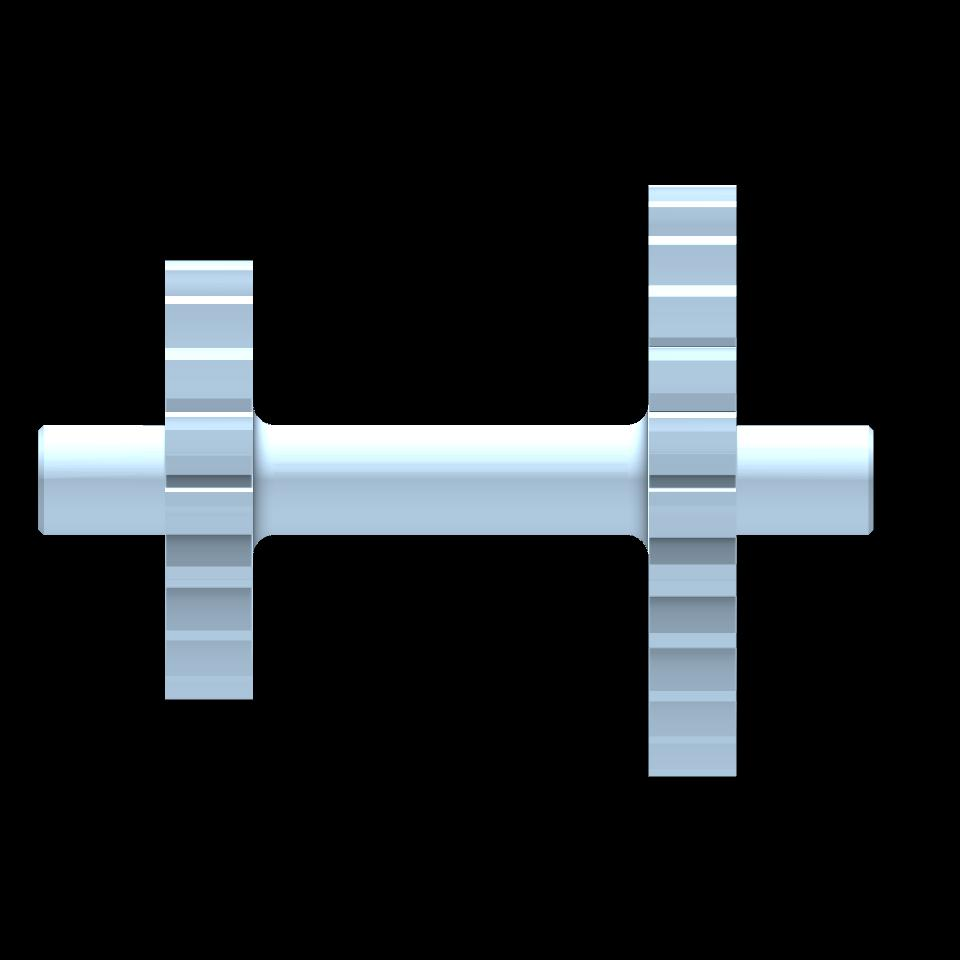Straight: (649, 185, 736, 775), (166, 260, 253, 699)
